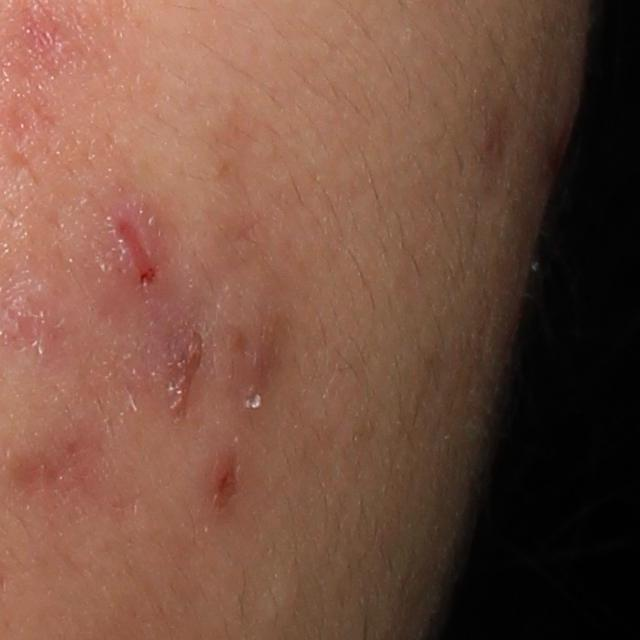papule: (199, 455, 245, 506)
